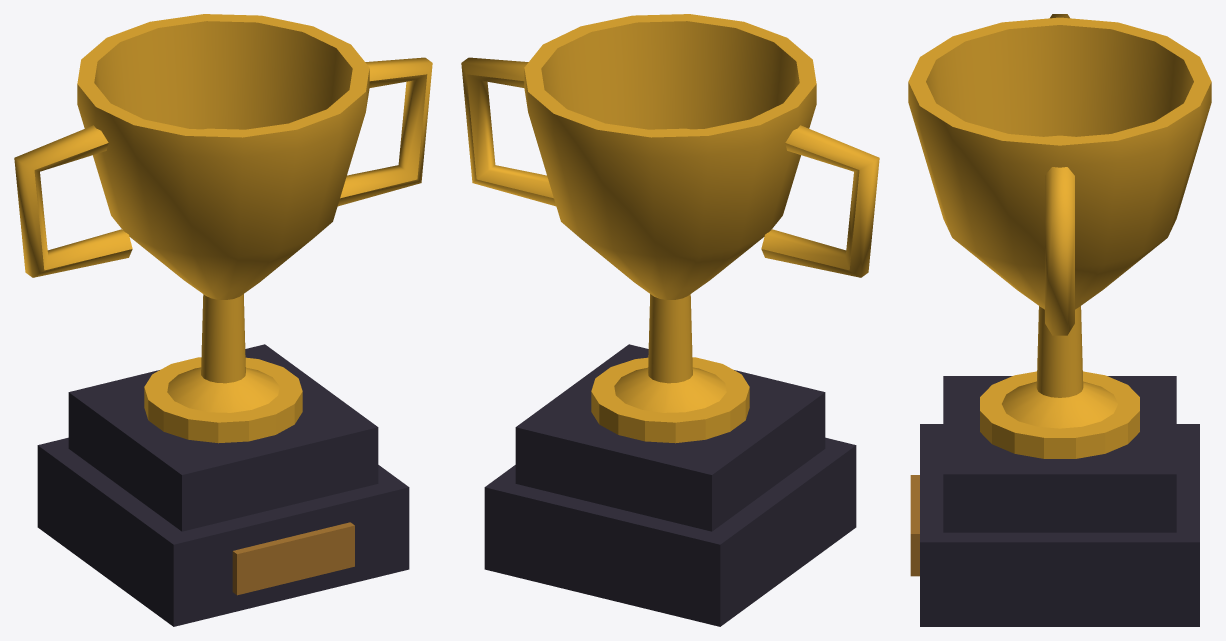
The model's file is trophy-cup.glb.
3 views of the same model, side by side, from view 1: azimuth 30°, elevation 25°; view 2: azimuth 150°, elevation 25°; view 3: azimuth 270°, elevation 25° (orthographic). The views are drawn at different scales.
Visible parts, largest first — view 1: Trophy cup, Trophy plinth, Trophy handles, Trophy stand, Trophy plate; view 2: Trophy cup, Trophy plinth, Trophy handles, Trophy stand; view 3: Trophy cup, Trophy plinth, Trophy stand, Trophy handles, Trophy plate.
Boxes of the visible parts, bbox=[...] form: Trophy cup: bbox=[77, 14, 369, 412]; Trophy plinth: bbox=[37, 344, 409, 626]; Trophy handles: bbox=[14, 57, 432, 277]; Trophy stand: bbox=[144, 357, 302, 443]; Trophy plate: bbox=[232, 522, 354, 595]; Trophy cup: bbox=[524, 14, 816, 412]; Trophy plinth: bbox=[484, 344, 856, 626]; Trophy handles: bbox=[461, 57, 879, 277]; Trophy stand: bbox=[591, 357, 749, 443]; Trophy cup: bbox=[908, 17, 1211, 428]; Trophy plinth: bbox=[920, 376, 1199, 626]; Trophy stand: bbox=[980, 371, 1139, 458]; Trophy handles: bbox=[1045, 14, 1074, 335]; Trophy plate: bbox=[910, 475, 919, 576].
Size of the model in its own units: 0.4186 by 0.46 by 0.26.
